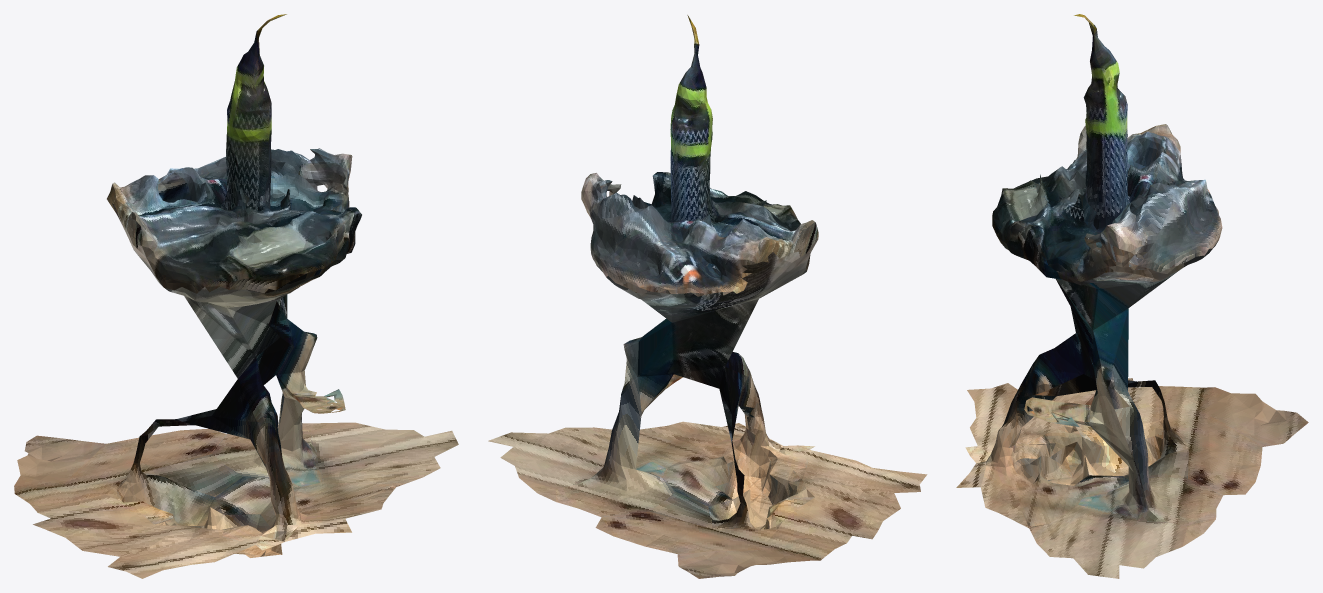
Rendered from 1024-bridge.glb.
3 renders of one model, left to right at view 1: azimuth 30°, elevation 25°; view 2: azimuth 150°, elevation 25°; view 3: azimuth 270°, elevation 25°, orthographic. The views are drawn at different scales.
Parts seen in each view (by area): view 1: Mesh_0; view 2: Mesh_0; view 3: Mesh_0.
Part boxes in pixels (bbox=[...]): Mesh_0: bbox=[14, 14, 458, 578]; Mesh_0: bbox=[488, 15, 927, 578]; Mesh_0: bbox=[956, 14, 1308, 578].
Size of the model in its own units: 0.7387 by 0.8817 by 0.5536.
Materials: 1 (1 with a texture image).
